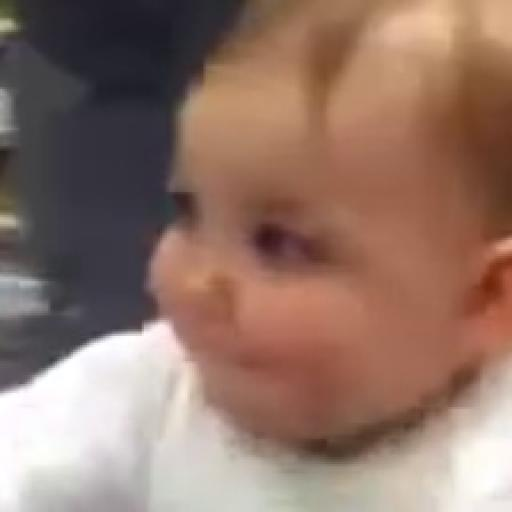Autism: (143, 30, 512, 436)
